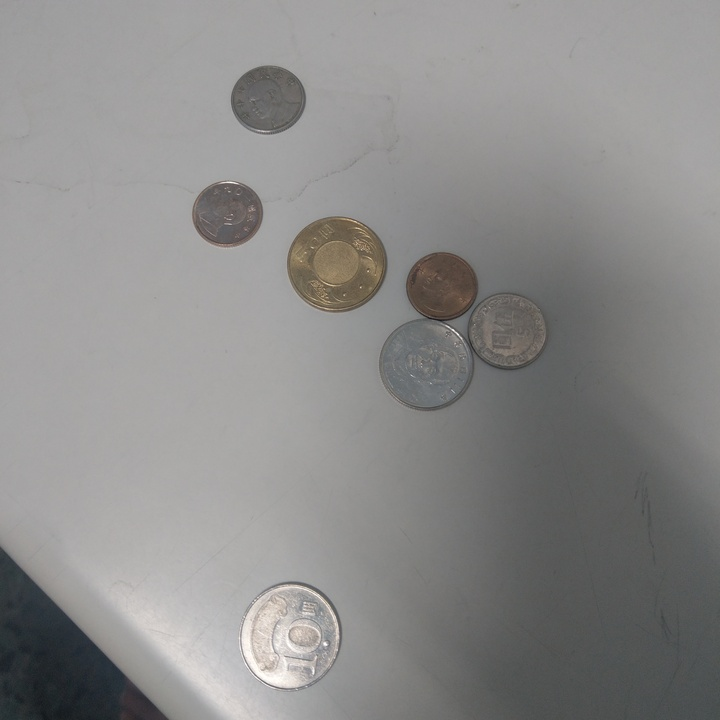1 dollar: (191, 180, 267, 249), (408, 251, 481, 321)
10 dollar: (237, 581, 344, 693), (381, 321, 474, 414)
5 dollar: (465, 292, 549, 371), (231, 65, 306, 138)
50 dollar: (286, 217, 387, 314)
